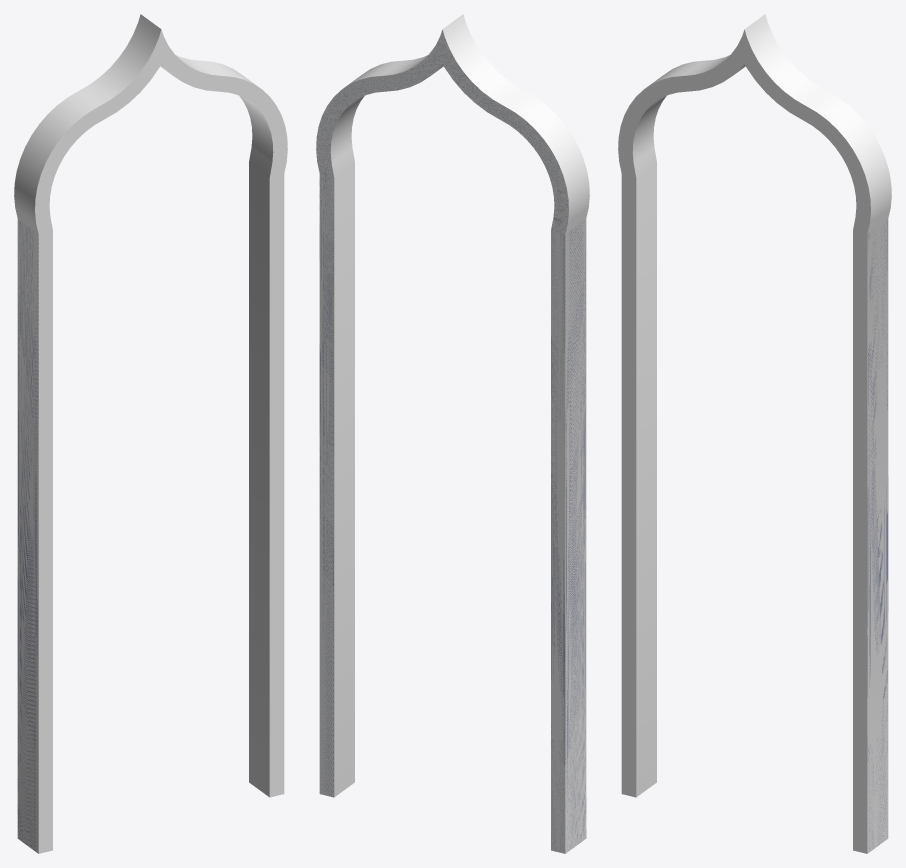
File: door.dae
3 views of the same model, side by side, from view 1: azimuth 30°, elevation 25°; view 2: azimuth 150°, elevation 25°; view 3: azimuth 330°, elevation 25° (orthographic).
Visible parts, largest first — view 1: SketchUp (×2); view 2: SketchUp (×2); view 3: SketchUp (×2).
Boxes of the visible parts, x1,y1,x2,y2 form: SketchUp (×2): [14, 14, 287, 853]; SketchUp (×2): [316, 14, 589, 853]; SketchUp (×2): [618, 14, 891, 853].
Bounding box in the file's own units: 35.02 × 5 × 105.
